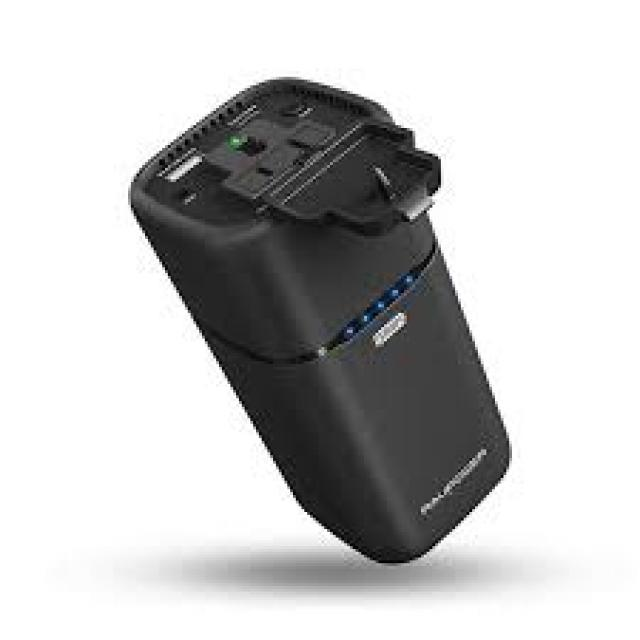hazard: (129, 95, 517, 570)
